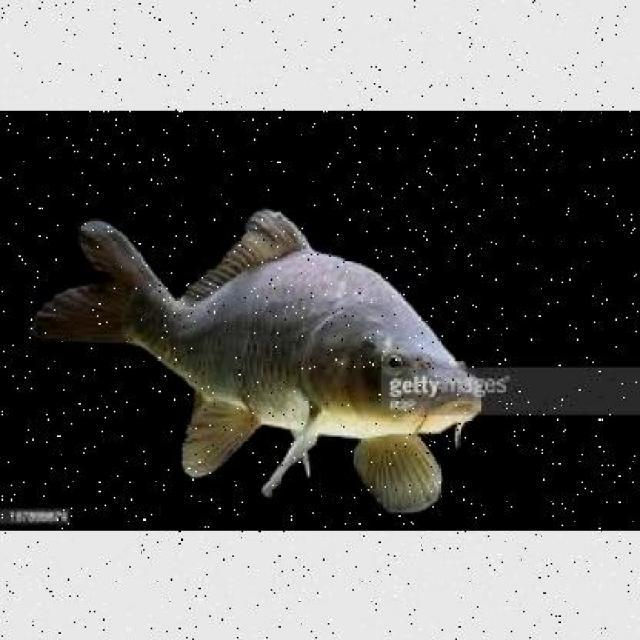ikan-mas: (42, 205, 490, 478)
